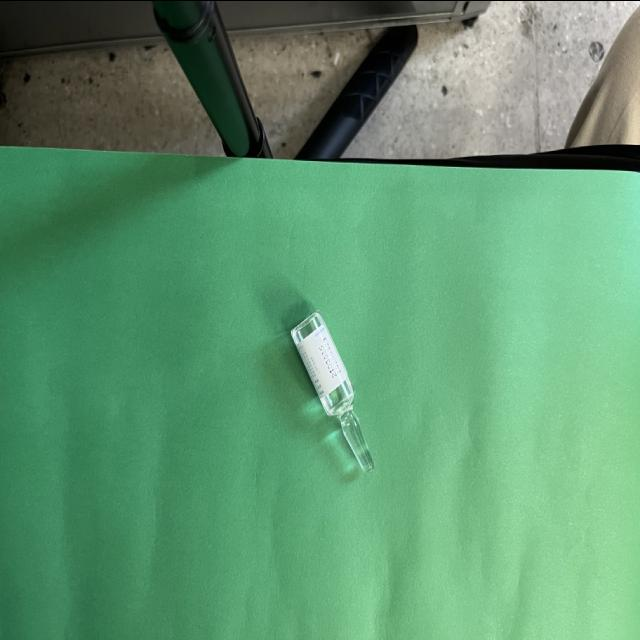Ampoules: (290, 311, 374, 471)
